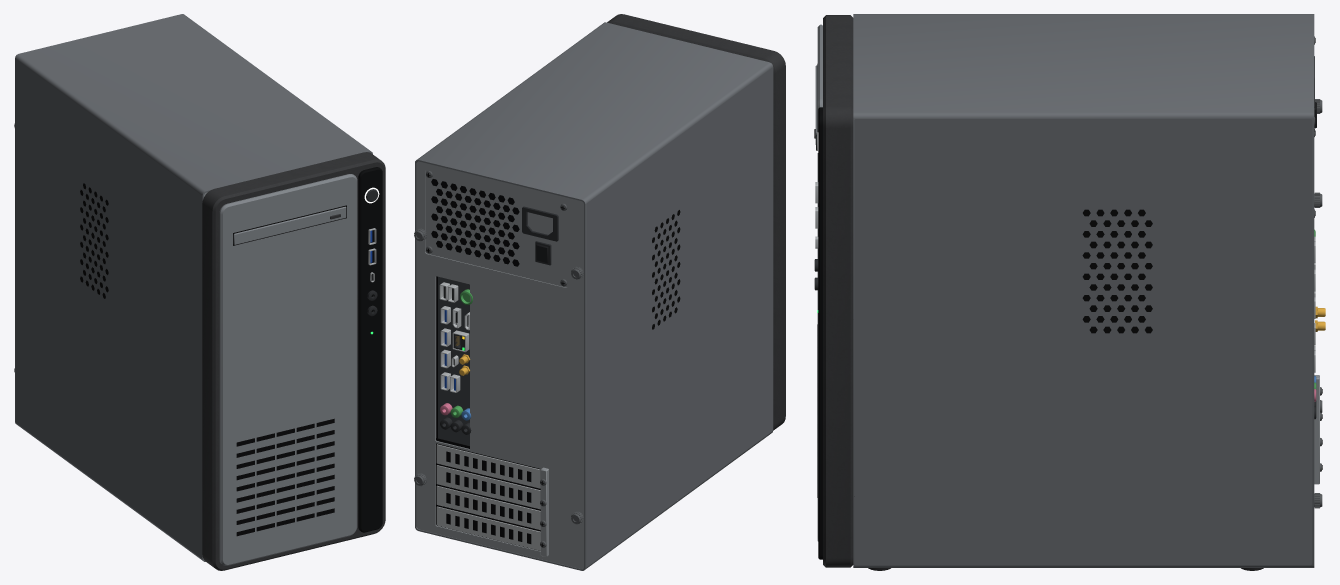
File: office-pc.glb
The picture shows the model from 3 angles, left to right: view 1: azimuth 30°, elevation 25°; view 2: azimuth 150°, elevation 25°; view 3: azimuth 270°, elevation 25°; orthographic projection. The views are drawn at different scales.
Visible parts, largest first — view 1: Office_Pc; view 2: Office_Pc; view 3: Office_Pc.
Part boxes in pixels (<box>): Office_Pc: <box>14,14,385,570</box>; Office_Pc: <box>414,14,785,570</box>; Office_Pc: <box>814,14,1325,570</box>.
Size of the model in its own units: 0.178 by 0.3735 by 0.3706.
21 materials, 1 textured.
